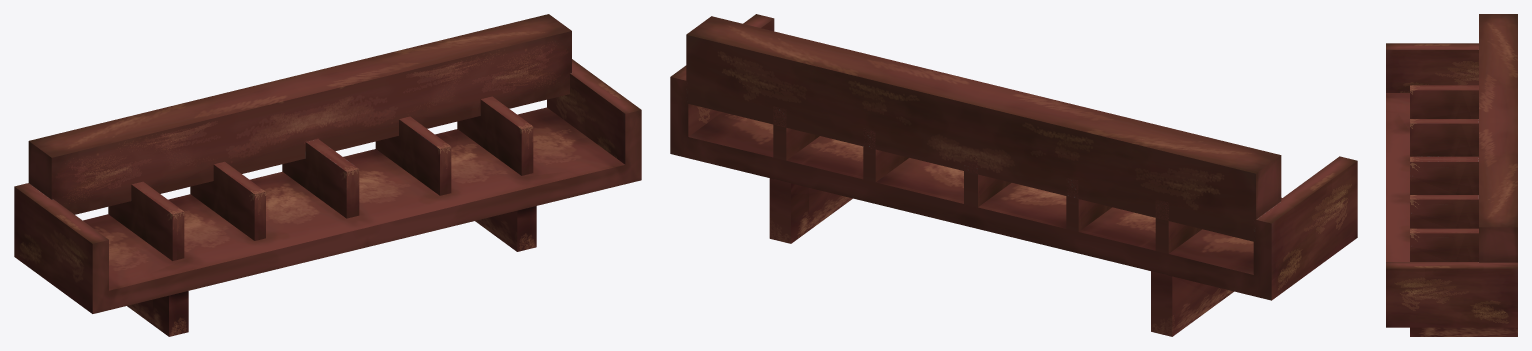
Rendered from Graffiti Wars Subway Bench ver 2.fbx.
3 views of the same model, side by side, from view 1: azimuth 30°, elevation 25°; view 2: azimuth 150°, elevation 25°; view 3: azimuth 270°, elevation 25° (orthographic). The views are drawn at different scales.
Visible parts, largest first — view 1: Cube; view 2: Cube; view 3: Cube.
Boxes of the visible parts, <box> form: Cube: <box>14,14,641,336</box>; Cube: <box>670,14,1357,336</box>; Cube: <box>1386,14,1517,336</box>.
Bounding box in the file's own units: 808 × 236 × 200.
